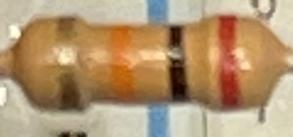Black: (164, 22, 194, 100)
Orange: (106, 24, 141, 105)
Red: (215, 16, 244, 112)
Side-Gold: (54, 14, 86, 112)
